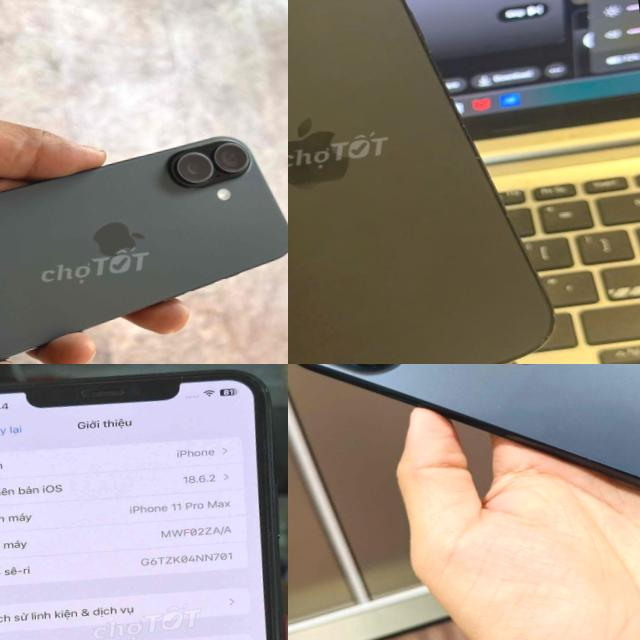scratch: (173, 368, 198, 393)
